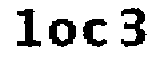1: (10, 6, 43, 52)
3: (116, 4, 147, 52)
c: (81, 18, 111, 49)
o: (42, 17, 77, 49)
